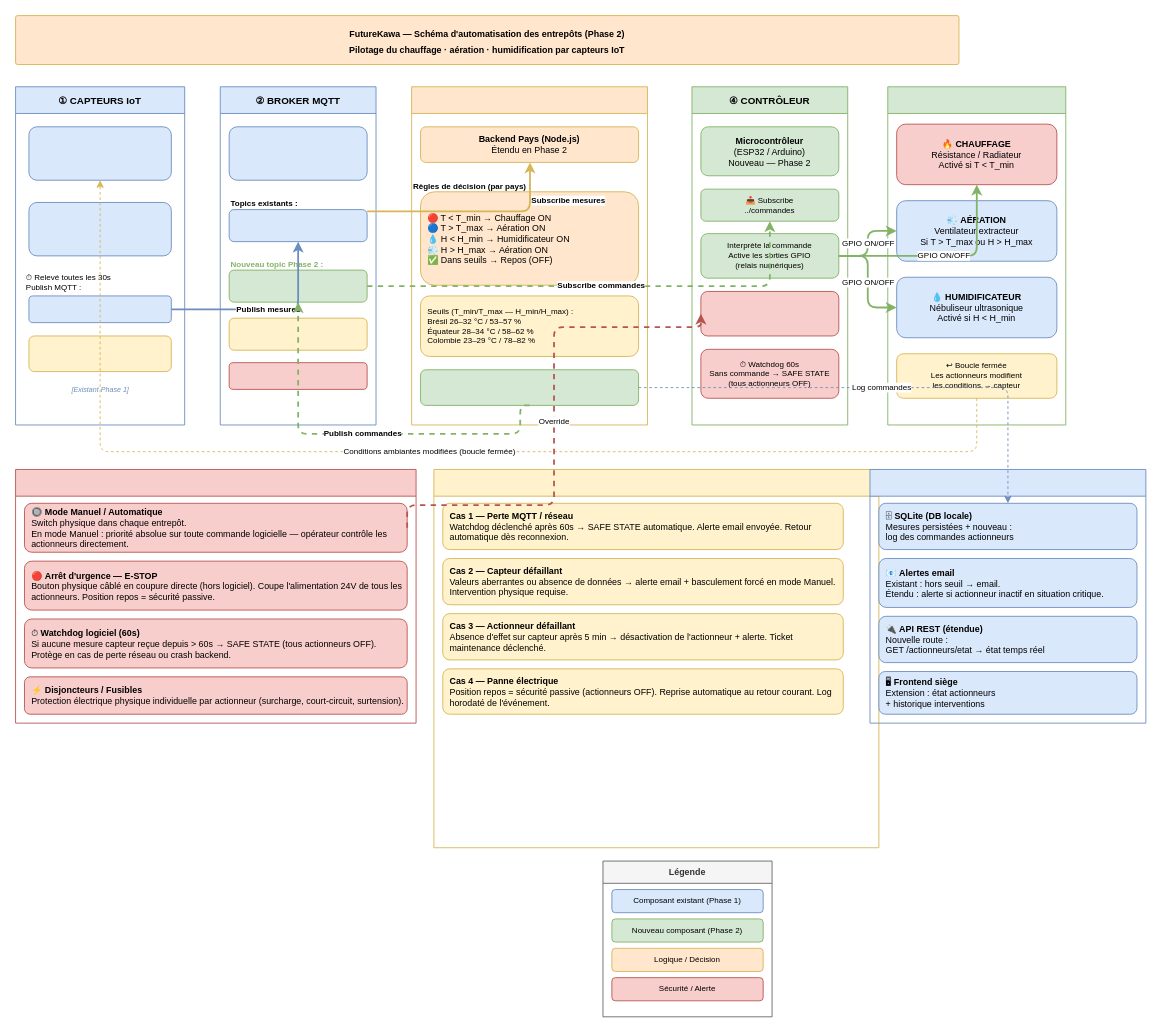
Some shapes in this 1161 by 1032 pixel diagram are drawn without their labels. Here are the shapes that lost their labels. From the top down, the box of each, then its label:
(28, 126, 171, 180): Capteur DHT22 Température (°C) Humidité (%)
(228, 126, 367, 180): Mosquitto Broker Local au pays (conteneurisé Docker)
(28, 202, 171, 256): Microcontrôleur (ESP32 / Arduino) Lecture GPIO analogique
(228, 209, 367, 242): 📥 ../mesures (données capteurs)
(411, 86, 647, 425): ③ MOTEUR DE DÉCISION
(887, 86, 1066, 425): ⑤ ACTIONNEURS
(228, 269, 367, 302): 📤 ../commandes (ordres actionneurs)
(28, 295, 171, 323): futurekawa/{pays}/mesures
(700, 291, 839, 336): ⚠️ Switch Manuel/Auto Priorité absolue (hardware override)
(28, 335, 171, 372): Payload JSON : { temp: 28.4, hum: 54.1 }
(228, 317, 367, 350): QoS 1 — At least once Retain: OFF (commandes)
(228, 362, 367, 389): 🔒 TLS recommandé en prod
(420, 369, 639, 405): 📤 Publie commande MQTT { action: "chauffage", etat: "ON", duree: 300 }
(15, 469, 416, 723): 🛡 SÉCURITÉS
(869, 469, 1146, 723): 🔗 INTÉGRATION — SOLUTION EXISTANTE (PHASE 1)
(433, 469, 879, 848): ⚠️ CAS DÉGRADÉS
